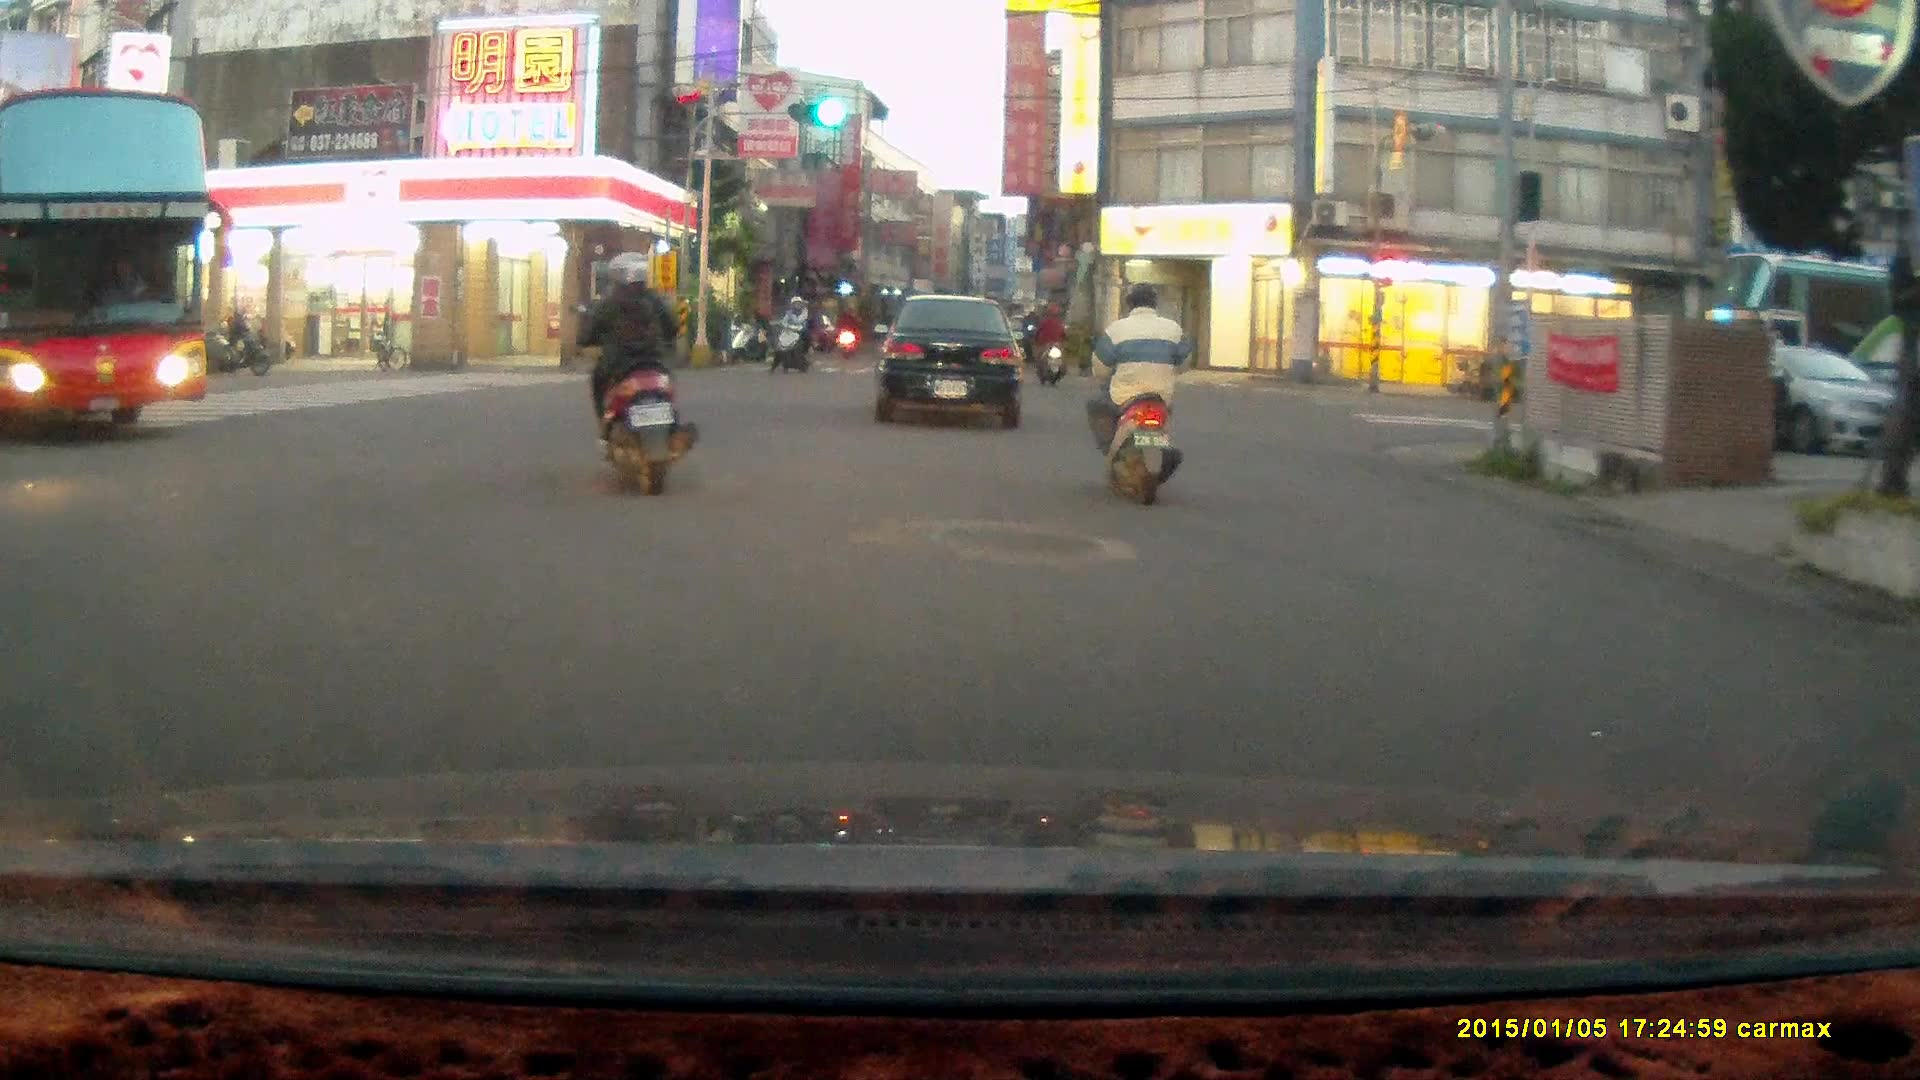rider: (569, 250, 700, 493), (1082, 281, 1197, 508), (769, 293, 815, 373), (1030, 297, 1069, 389)
vehicle: (1, 86, 211, 429), (1645, 337, 1914, 459), (882, 290, 1026, 430)
